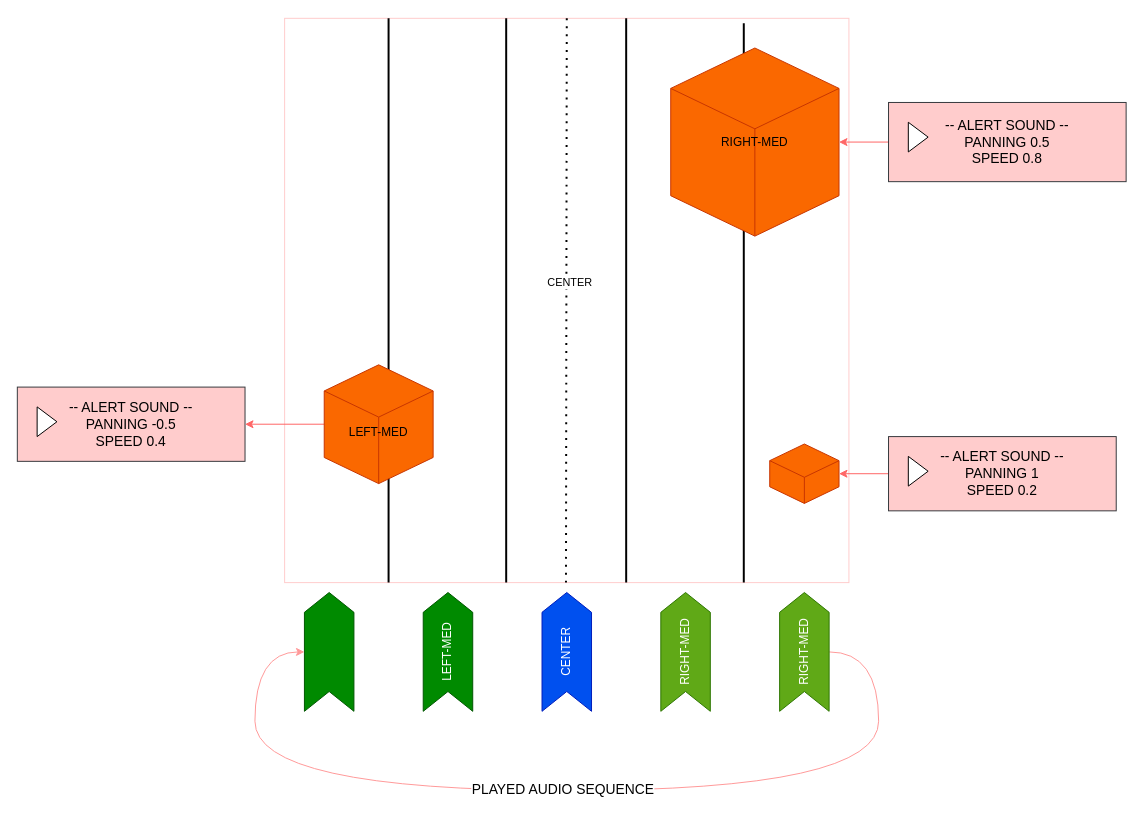
Image size: 1143x814. Some labels were removed from this diagram. The shapes that lost their labels are listed below. From the top down, each one's centre as x and y in pixels, then its label:
point (804, 473): RIGHT
point (328, 651): LEFT
